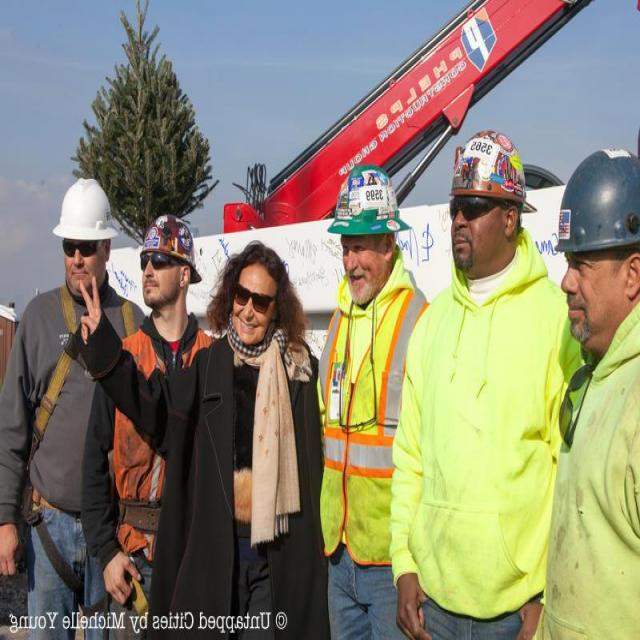Reflective-Jacket: (314, 272, 432, 564), (112, 320, 224, 568)
Safety-Helmet: (551, 142, 640, 262), (443, 124, 537, 211), (326, 160, 405, 240), (135, 206, 205, 284), (50, 170, 120, 248)
